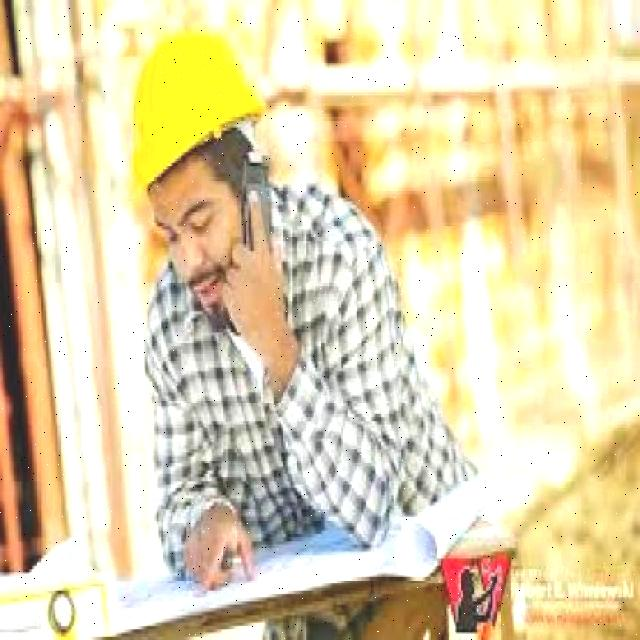Helmet: (131, 9, 267, 189)
